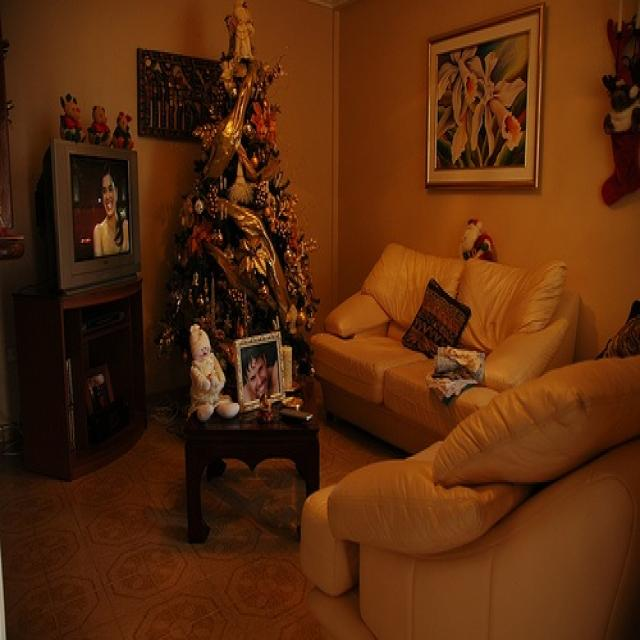sofa: (294, 351, 639, 638), (308, 235, 582, 453)
tvmonitor: (32, 139, 141, 289)
